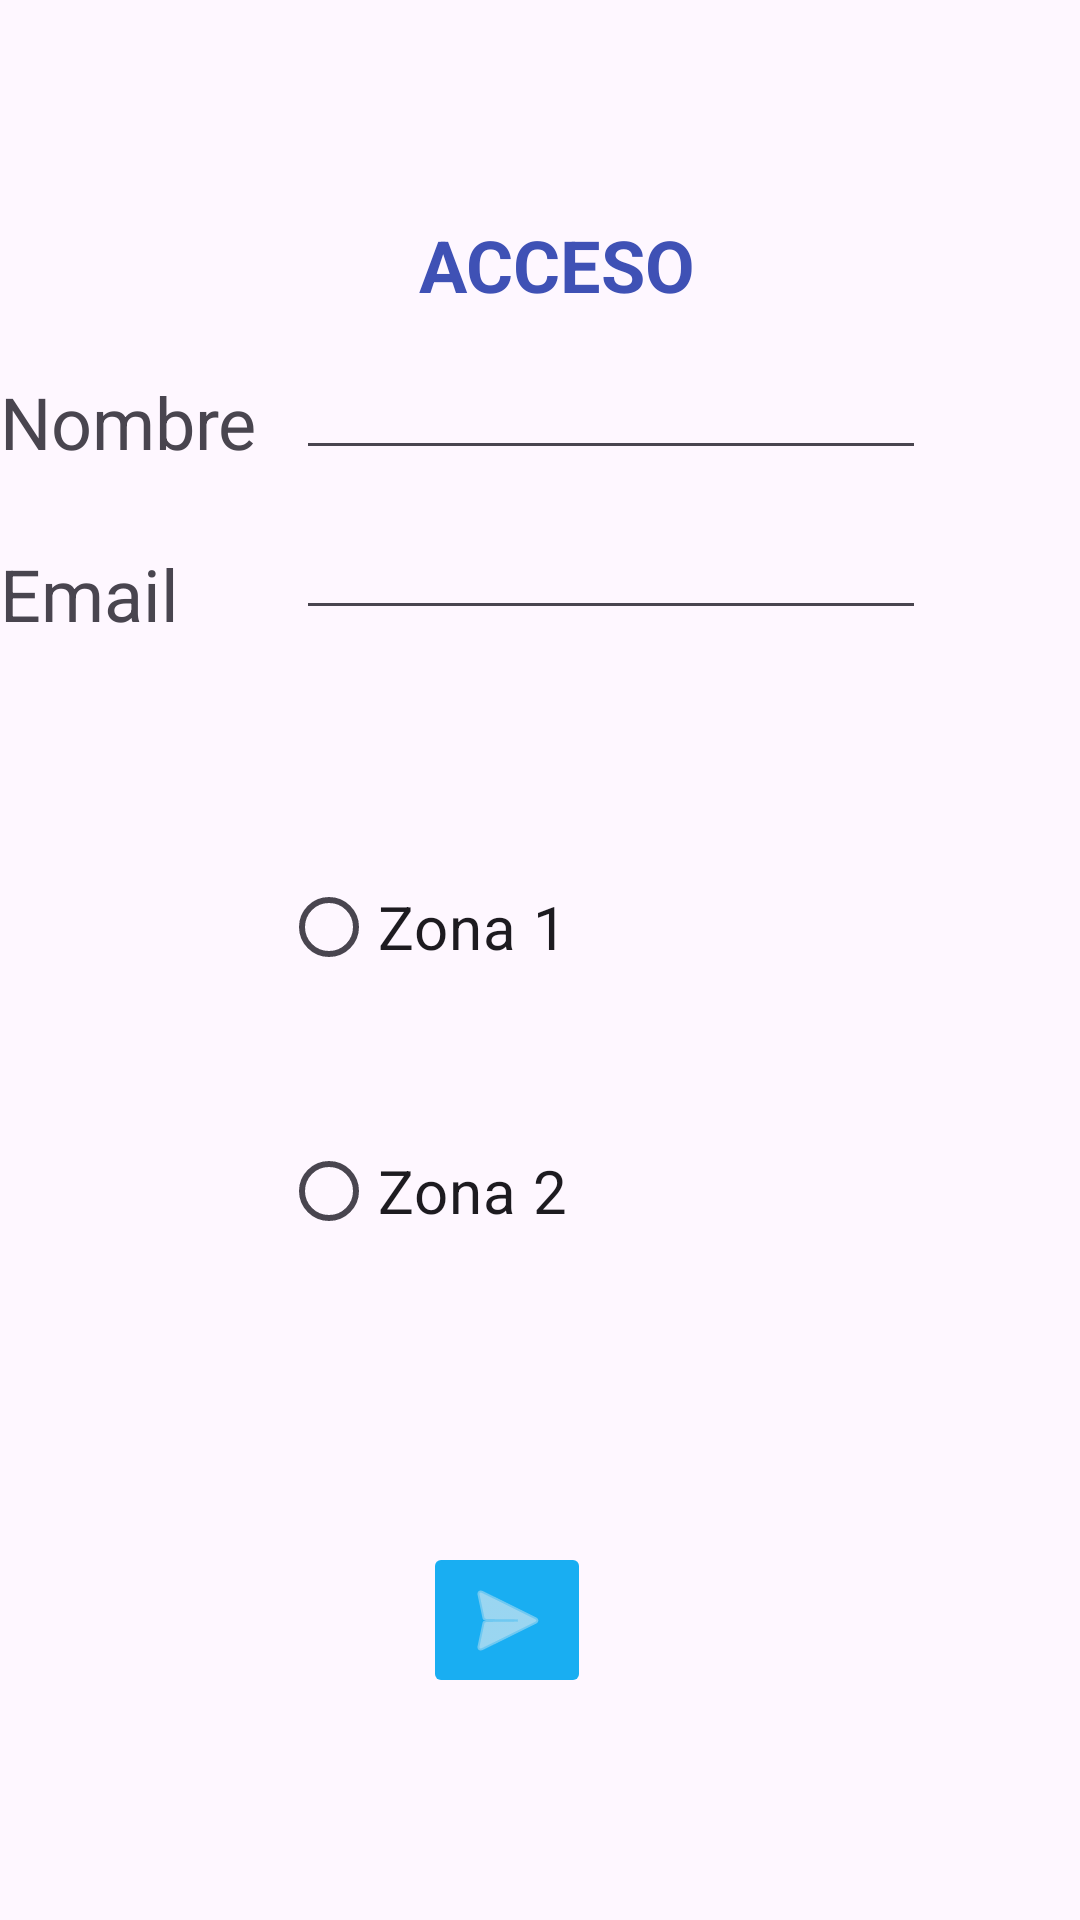

Locate icon controls on the screen. Image size 1080w x 1920h, boxes as (x1, y1, x2, y2).
send: (435, 1560, 579, 1680)
